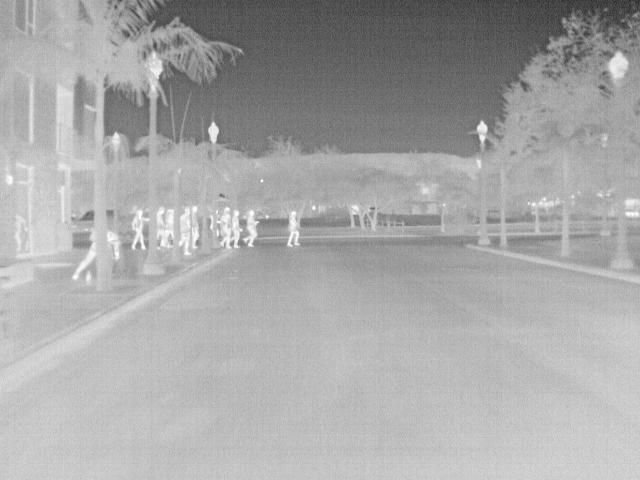person: (129, 208, 151, 250), (175, 205, 192, 254), (240, 208, 260, 249), (286, 207, 304, 248), (227, 207, 244, 250), (216, 208, 232, 246), (190, 204, 203, 248), (107, 228, 124, 260)
